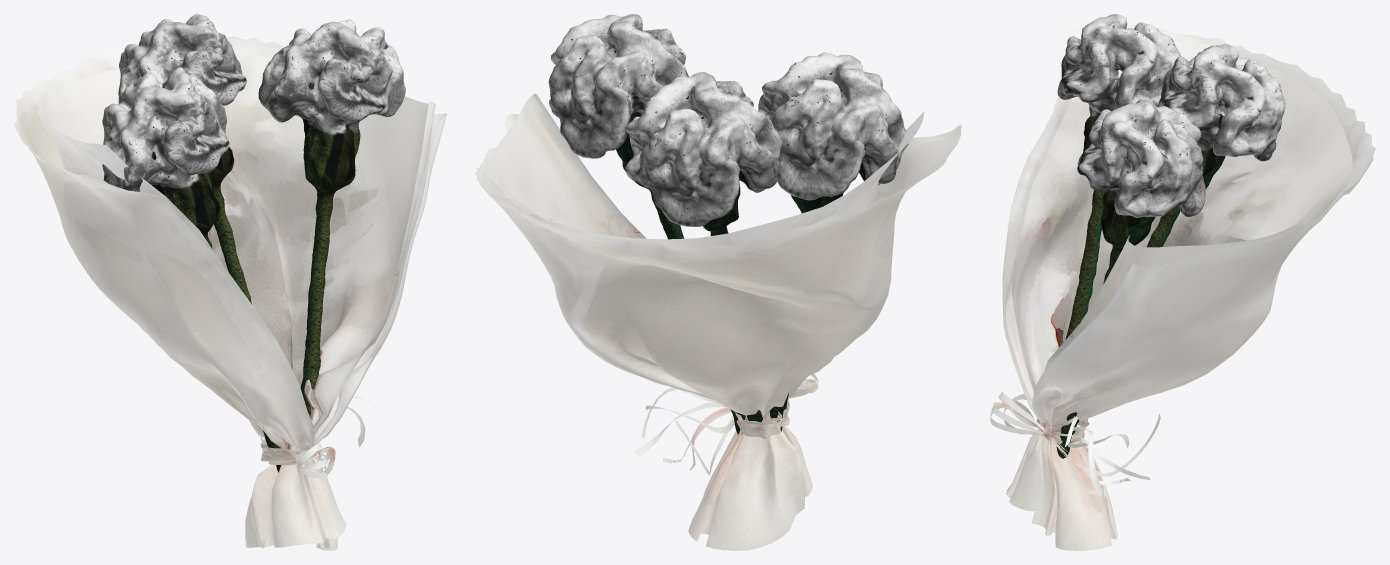
File: carnation_bouquet.glb
3 renders of one model, left to right at view 1: azimuth 30°, elevation 25°; view 2: azimuth 150°, elevation 25°; view 3: azimuth 270°, elevation 25°, orthographic. The views are drawn at different scales.
Parts seen in each view (by area): view 1: inner, outer, Carnation_Petals.007, Carnation_Petals.005, Carnation_Petals.006, Carnation _Stem.007, Carnation _Stem.005, Carnation _Stem.006, ribbon, parcel_knot; view 2: outer, Carnation_Petals.006, Carnation_Petals.005, inner, Carnation_Petals.007, ribbon, Carnation _Stem.007, parcel_knot, Carnation _Stem.006, Carnation _Stem.005; view 3: outer, inner, Carnation_Petals.007, Carnation_Petals.006, Carnation_Petals.005, ribbon, Carnation _Stem.005, Carnation _Stem.007, Carnation _Stem.006.
Part boxes in pixels (x1=…): inner: x1=38, y1=55, x2=435, y2=449; outer: x1=14, y1=36, x2=446, y2=550; Carnation_Petals.007: x1=258, y1=19, x2=405, y2=341; Carnation_Petals.005: x1=102, y1=67, x2=229, y2=191; Carnation_Petals.006: x1=118, y1=14, x2=246, y2=290; Carnation _Stem.007: x1=300, y1=118, x2=360, y2=416; Carnation _Stem.005: x1=151, y1=172, x2=281, y2=472; Carnation _Stem.006: x1=208, y1=133, x2=251, y2=304; ribbon: x1=260, y1=396, x2=376, y2=478; parcel_knot: x1=260, y1=439, x2=309, y2=465; outer: x1=475, y1=113, x2=961, y2=550; Carnation_Petals.006: x1=625, y1=72, x2=782, y2=226; Carnation_Petals.005: x1=758, y1=52, x2=908, y2=200; inner: x1=487, y1=93, x2=924, y2=247; Carnation_Petals.007: x1=548, y1=14, x2=688, y2=158; ribbon: x1=635, y1=373, x2=818, y2=475; Carnation _Stem.007: x1=616, y1=113, x2=746, y2=434; parcel_knot: x1=734, y1=398, x2=789, y2=438; Carnation _Stem.006: x1=703, y1=169, x2=762, y2=422; Carnation _Stem.005: x1=769, y1=159, x2=865, y2=431; outer: x1=1002, y1=27, x2=1375, y2=550; inner: x1=1012, y1=24, x2=1352, y2=393; Carnation_Petals.007: x1=1077, y1=99, x2=1205, y2=278; Carnation_Petals.006: x1=1154, y1=44, x2=1285, y2=236; Carnation_Petals.005: x1=1057, y1=14, x2=1180, y2=320; ribbon: x1=990, y1=392, x2=1160, y2=498; Carnation _Stem.005: x1=1065, y1=114, x2=1108, y2=339; Carnation _Stem.007: x1=1056, y1=188, x2=1155, y2=458; Carnation _Stem.006: x1=1076, y1=116, x2=1225, y2=425.
Size of the model in its own units: 1.8 by 2.07 by 1.55.
9 materials, 9 textured.
